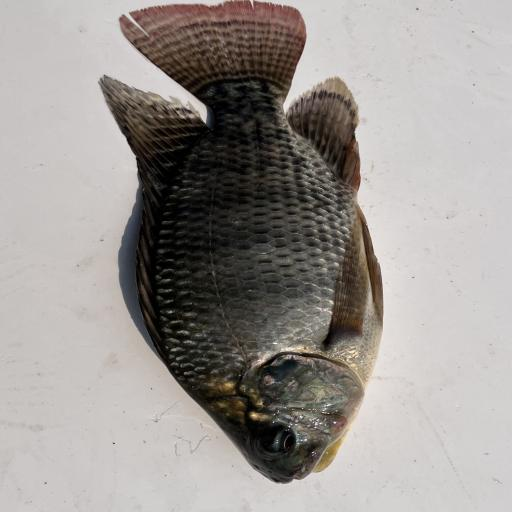Tilapia: (97, 0, 384, 484)
